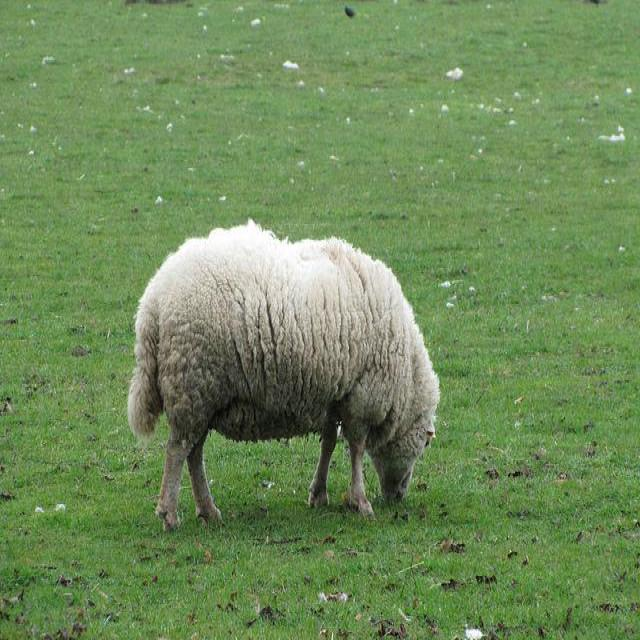Sheep: (118, 221, 443, 535)
